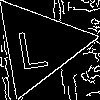L: (13, 20, 50, 70)
